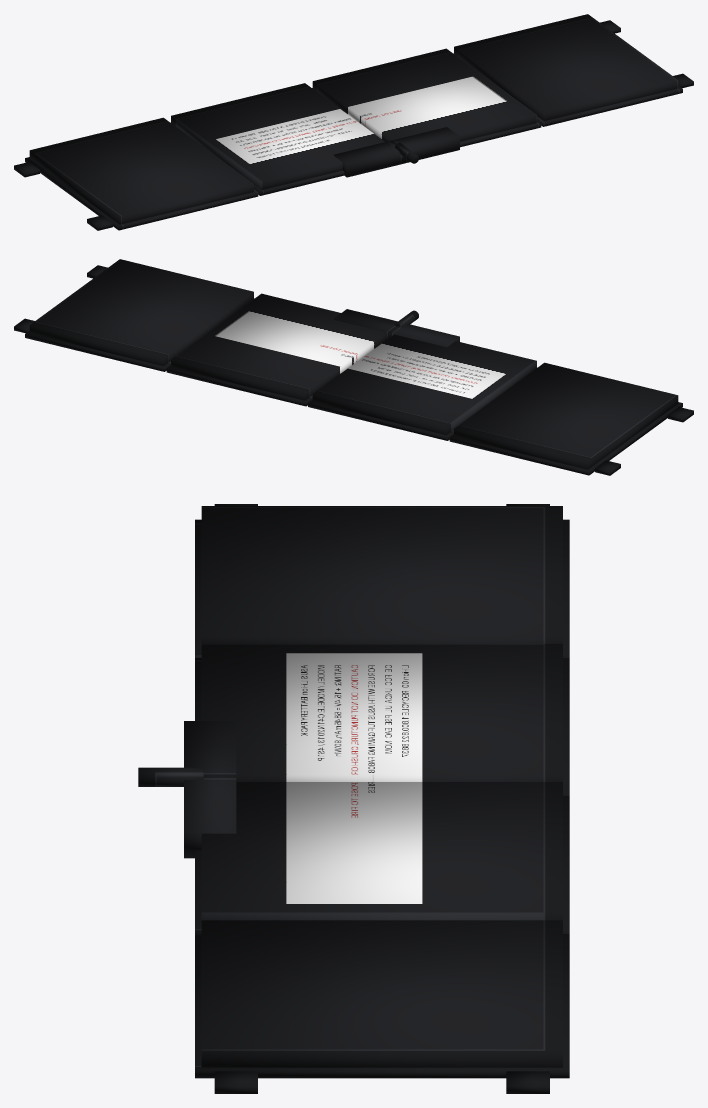
The model's file is battery.obj.
3 views of the same model, one above another, from view 1: azimuth 30°, elevation 25°; view 2: azimuth 150°, elevation 25°; view 3: azimuth 270°, elevation 25° (orthographic). The views are drawn at different scales.
Parts seen in each view (by area): view 1: battery; view 2: battery; view 3: battery.
Boxes of the visible parts, <box> form: battery: <box>14,14,693,230</box>; battery: <box>14,259,693,475</box>; battery: <box>138,504,569,1093</box>.
Bounding box in the file's own units: 316 × 8.7 × 99.
1 material, 1 textured.
